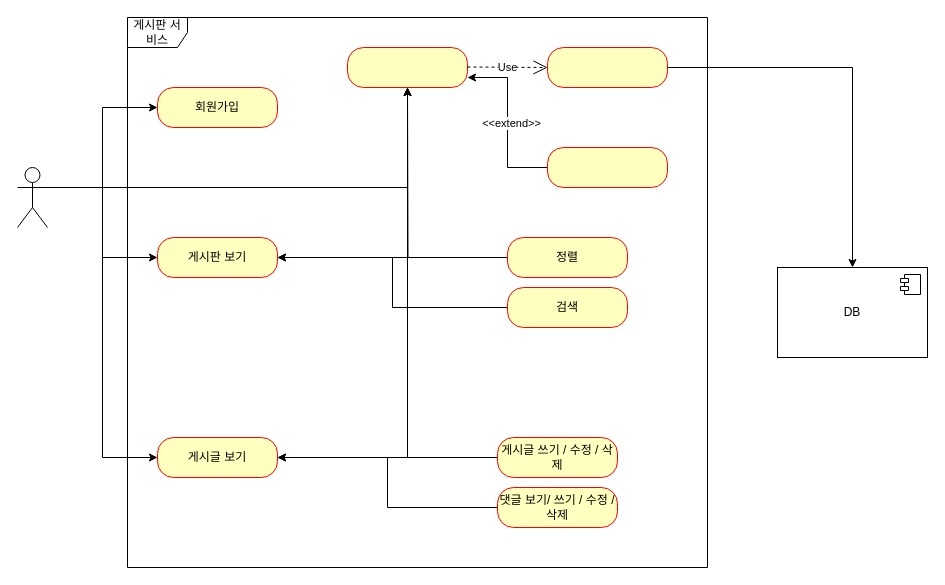
This 945x585 diagram has some shape labels left out. The centre of each missing label's shape, as x and y in pixels:
"Actor" belongs at point 32,197.
"로그인" belongs at point 407,67.
"로그인 실패" belongs at point 607,167.
"인증" belongs at point 607,67.
